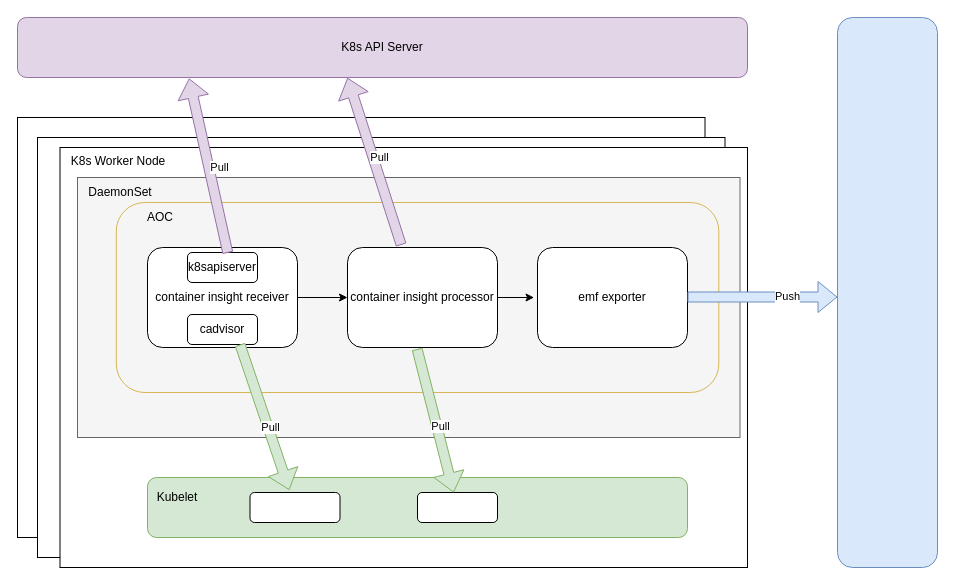
Some shapes in this 955 by 585 pixel diagram are drawn without their labels. The centre of each missing label's shape, as x and y in pixels:
"CloudwatchLogs" goes at point 887,292.
"Restful API /pods" goes at point 457,507.
"Restful API /stats/container" goes at point 294,507.
